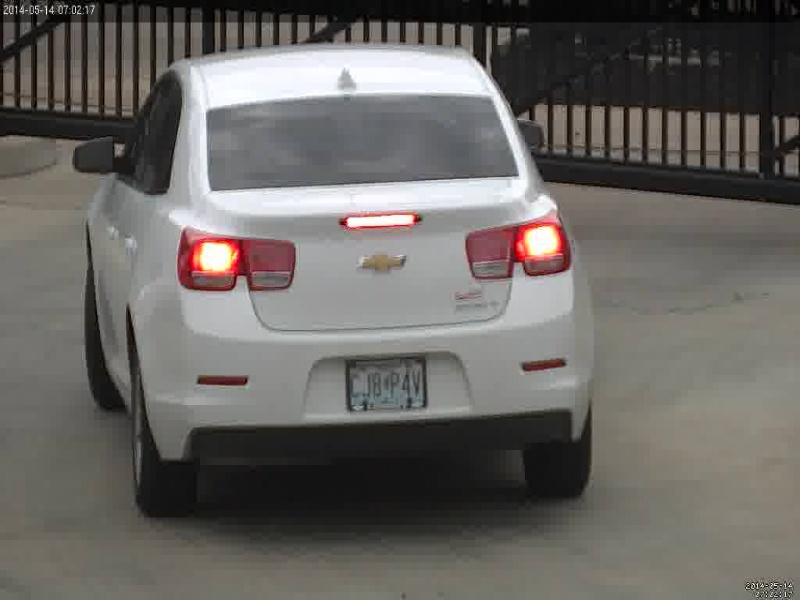licence plate: (343, 358, 429, 411)
